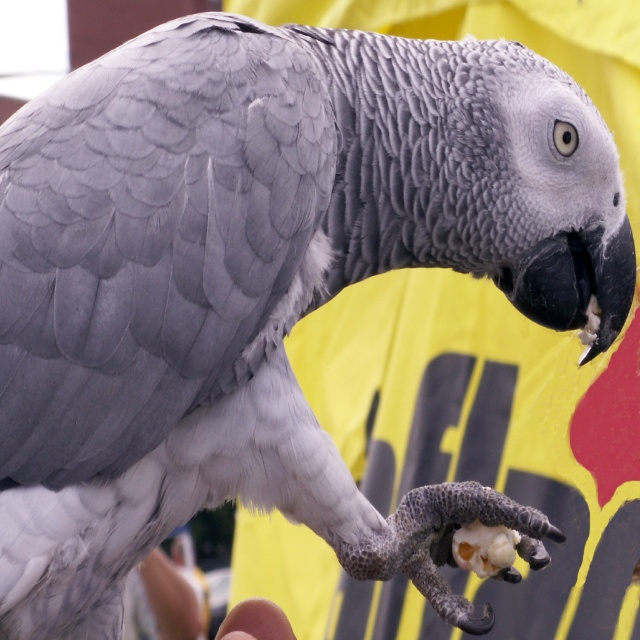Parrot: (0, 12, 636, 640)
